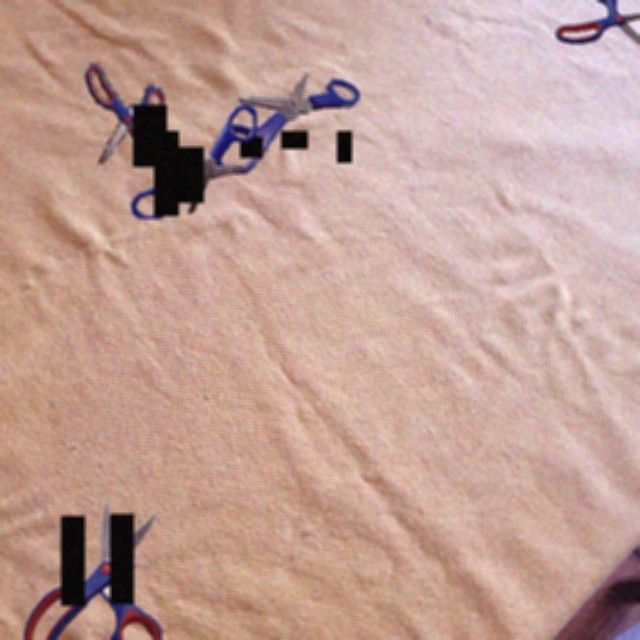scissors: (24, 502, 162, 640), (212, 73, 360, 174), (131, 104, 257, 219), (85, 63, 165, 164), (555, 0, 640, 58)
